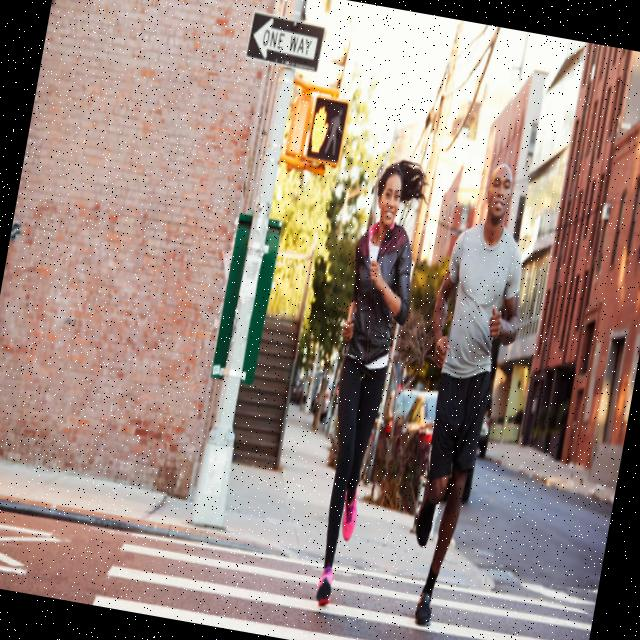Person: (380, 156, 546, 633), (294, 152, 435, 611)
